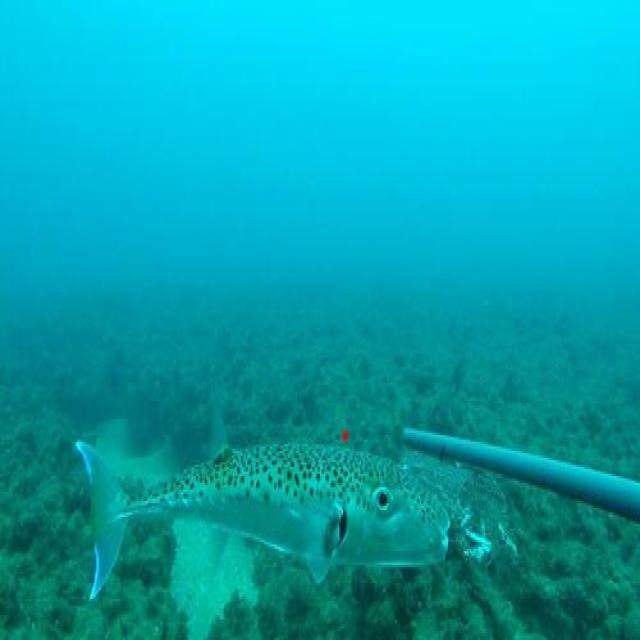Balik: (76, 442, 450, 599)
